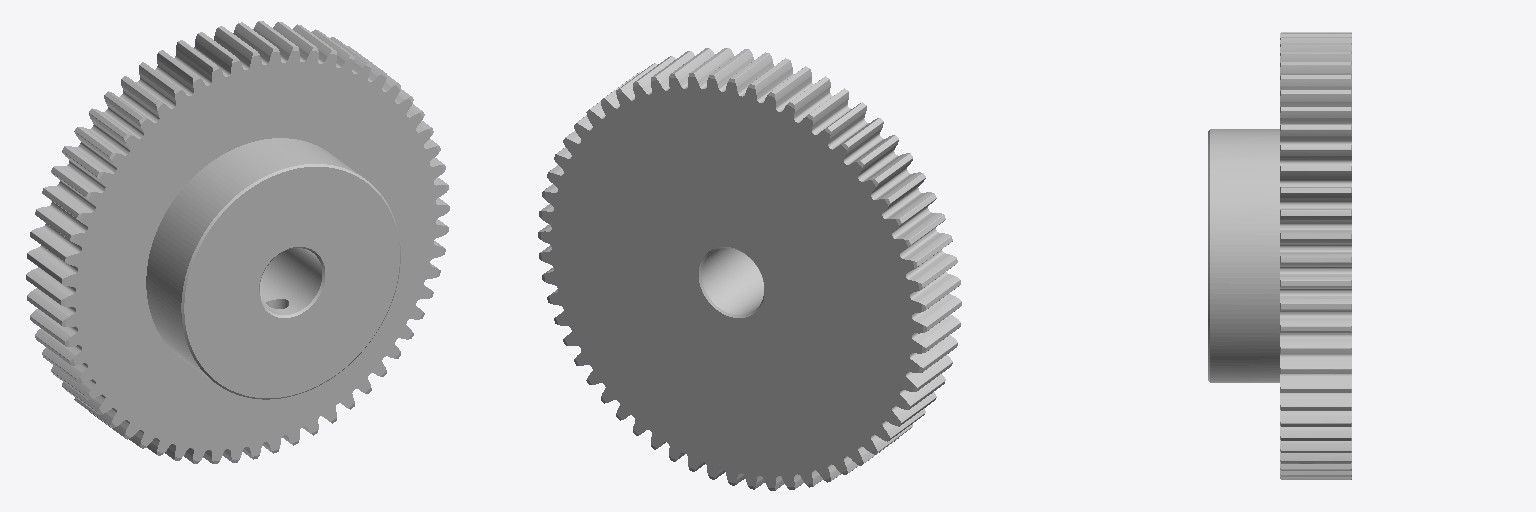
File: industreal_gear_large.obj
3 views of the same model, side by side, from view 1: azimuth 30°, elevation 25°; view 2: azimuth 150°, elevation 25°; view 3: azimuth 270°, elevation 25° (orthographic).
Visible parts, largest first — view 1: mesh842, mesh8, mesh2, mesh11, mesh3, mesh0; view 2: mesh15, mesh11; view 3: mesh3, mesh2, mesh647.
Boxes of the visible parts, <box> form: mesh842: <box>65,51,446,460</box>; mesh8: <box>184,167,399,397</box>; mesh2: <box>146,141,290,379</box>; mesh11: <box>260,250,321,314</box>; mesh3: <box>256,138,360,175</box>; mesh0: <box>181,167,291,399</box>; mesh15: <box>541,77,922,487</box>; mesh11: <box>702,250,763,314</box>; mesh3: <box>1210,141,1279,382</box>; mesh2: <box>1210,129,1279,140</box>; mesh647: <box>1280,54,1351,61</box>.
Size of the model in its own units: 0.062 by 0.062 by 0.02.